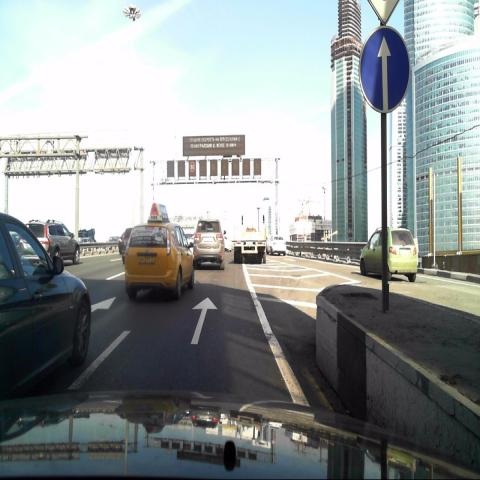4_1_1: (357, 23, 411, 116)
